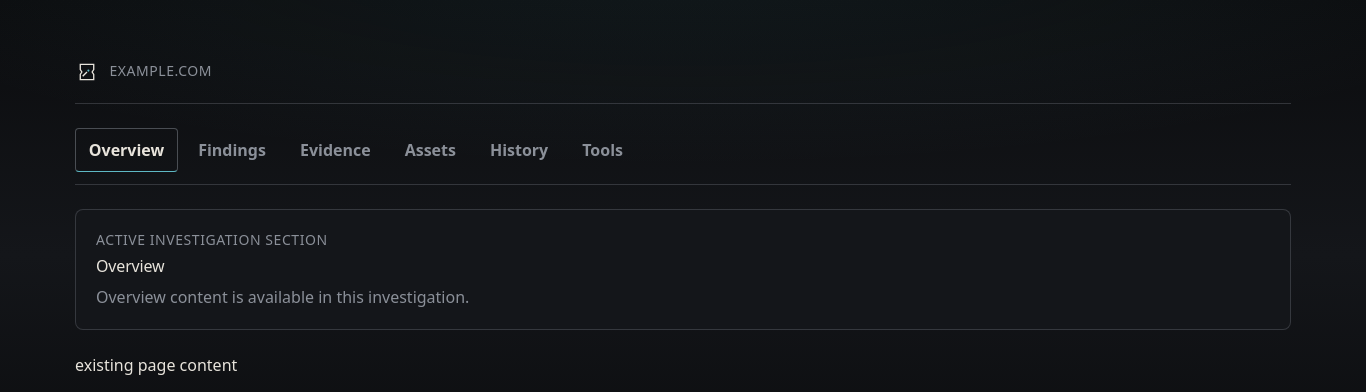
Test case: InvestigatorShell › changes active content for every contextual section
What coordinates should you click on to do the following:
click the button "Overview"
I would click on:
 (126, 150)
Its box is [75, 128, 178, 172].
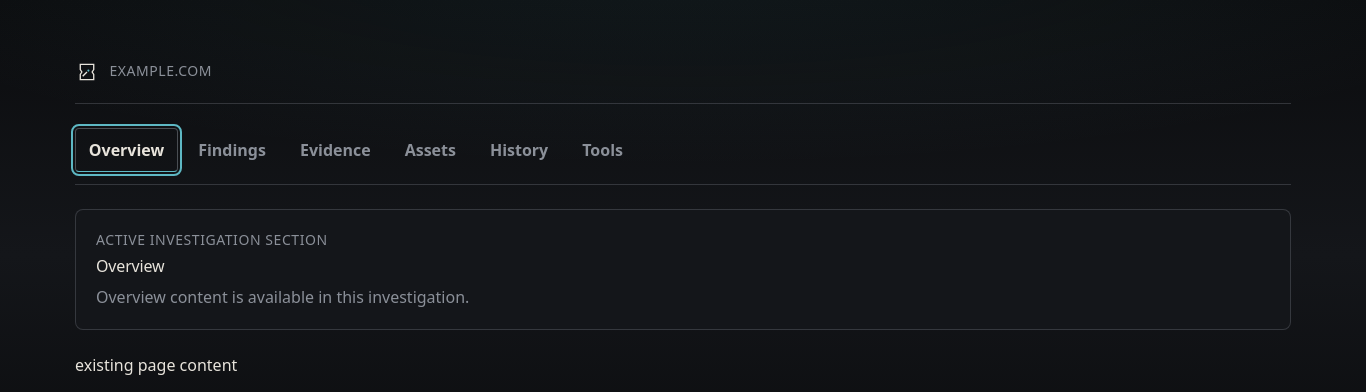
Check: the element "Overview" is shown, box [75, 209, 1291, 330]
What coordinates should you click on to do the following:
click the button "Findings"
I would click on:
 (232, 150)
Its box is [184, 128, 280, 172].
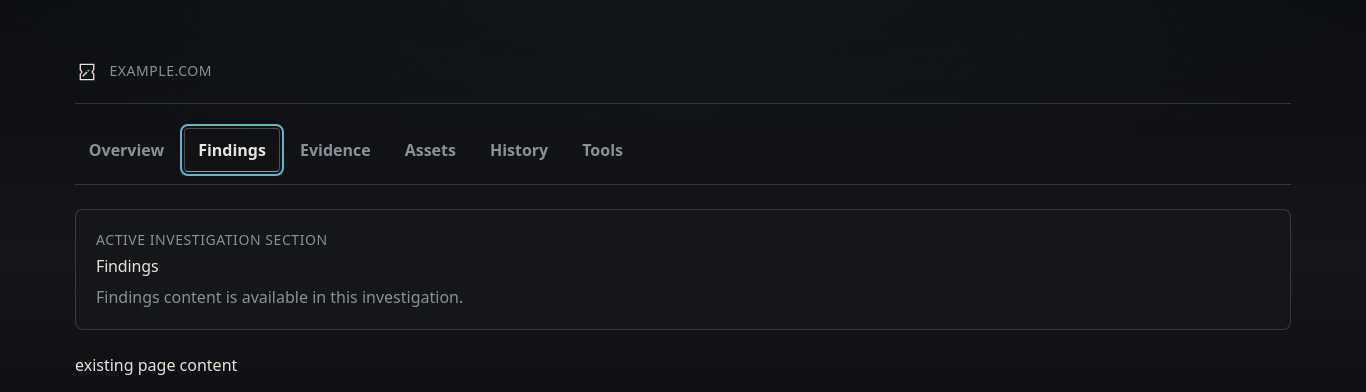
Check: the element "Findings" is shown, box [75, 209, 1291, 330]
What coordinates should you click on to do the following:
click the button "Evidence"
I would click on:
 (335, 150)
Its box is [286, 128, 384, 172].
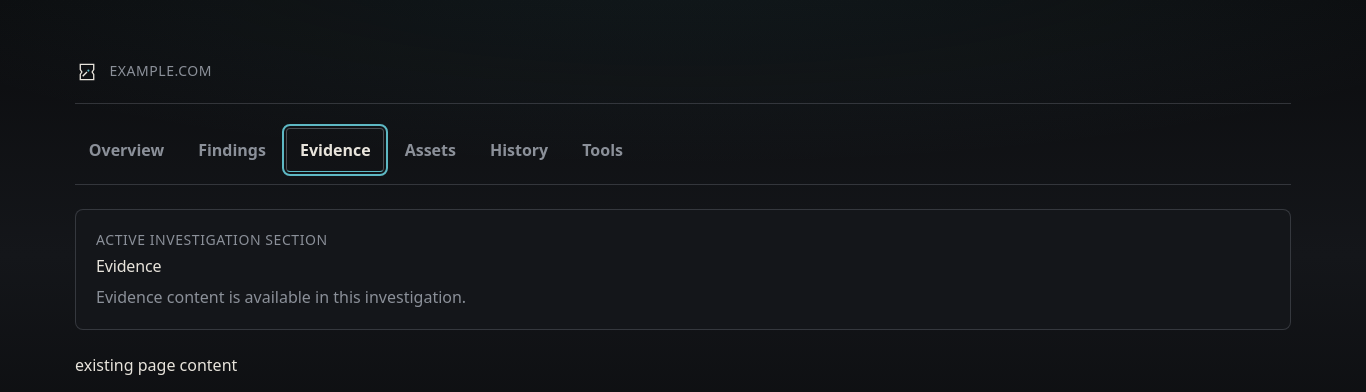
Check: the element "Evidence" is shown, box [75, 209, 1291, 330]
What coordinates should you click on to do the following:
click the button "Assets"
I would click on:
 (430, 150)
Its box is [391, 128, 470, 172].
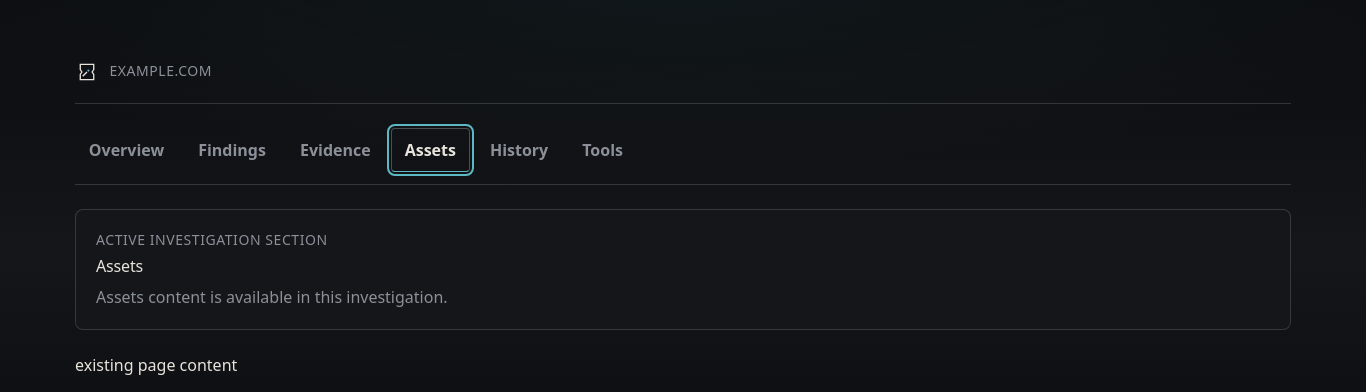
Check: the element "Assets" is shown, box [75, 209, 1291, 330]
What coordinates should you click on to do the following:
click the button "History"
I would click on:
 (519, 150)
Its box is [476, 128, 562, 172].
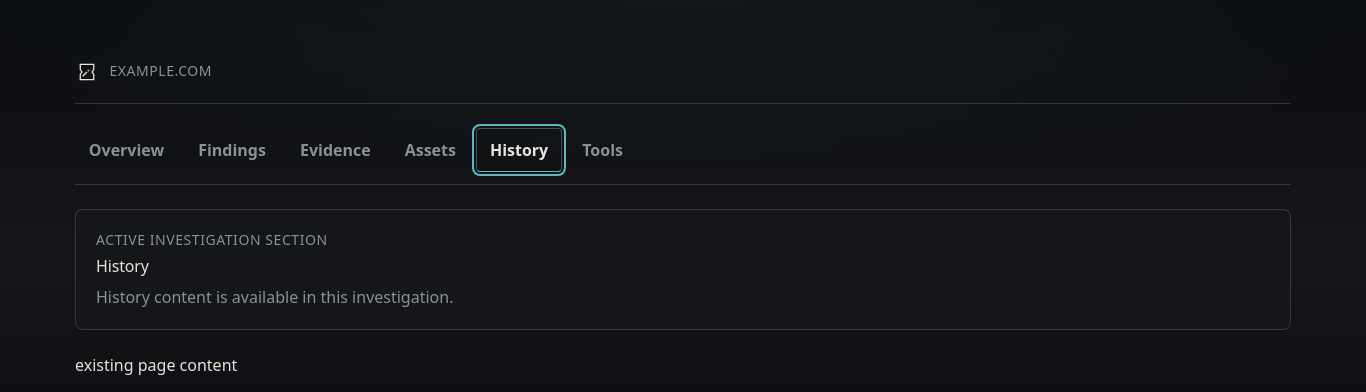
Check: the element "History" is shown, box [75, 209, 1291, 330]
What coordinates should you click on to do the following:
click the button "Tools"
I would click on:
 (603, 150)
Its box is [568, 128, 637, 172].
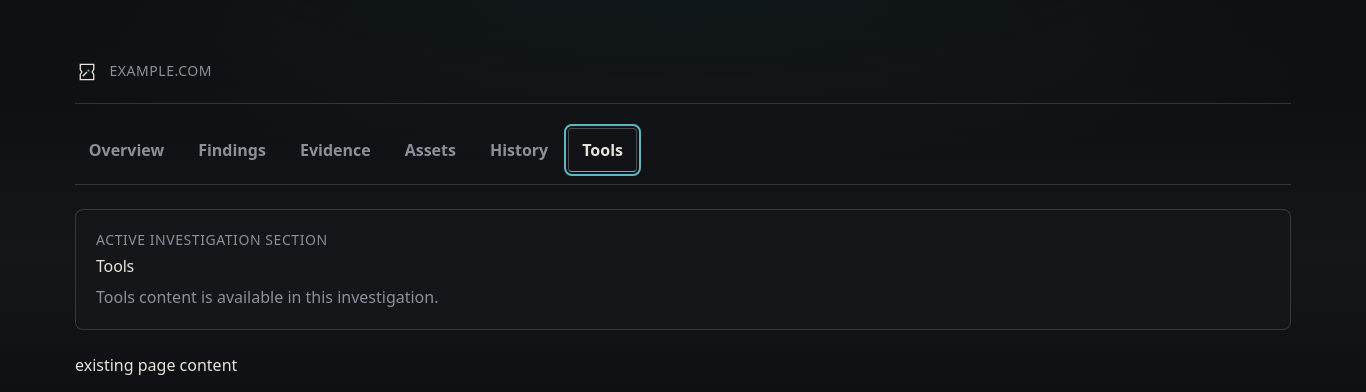
Check: the element "Tools" is shown, box [75, 209, 1291, 330]
